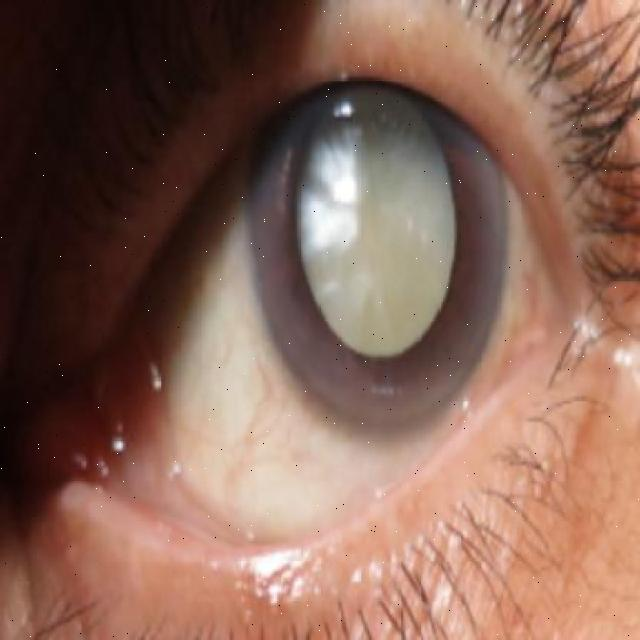Cataract: (245, 0, 512, 439)
